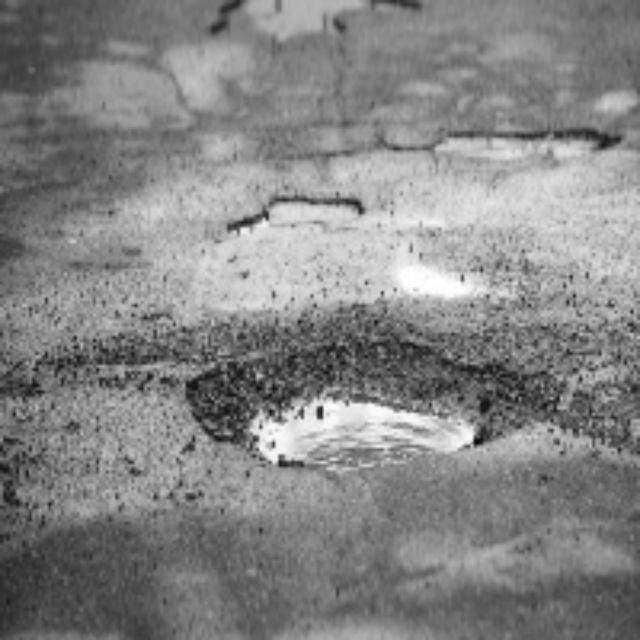Pothole: (232, 352, 478, 482), (219, 0, 407, 68), (444, 106, 584, 175), (261, 178, 356, 232)
